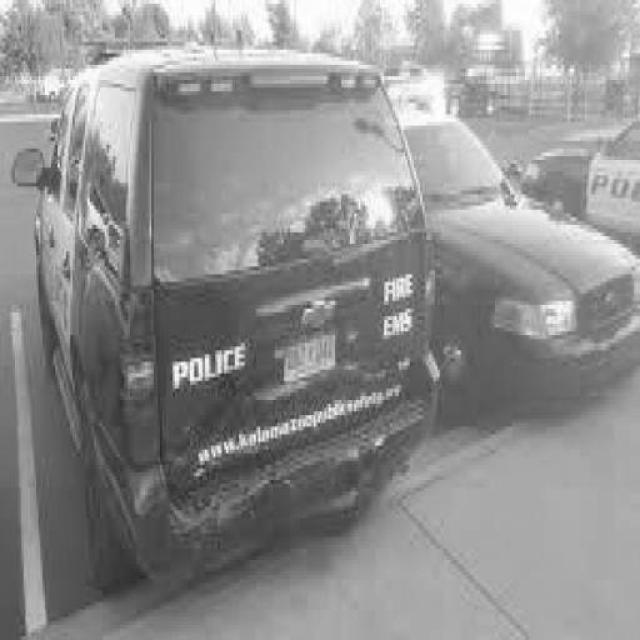car damage: (170, 385, 286, 556)
